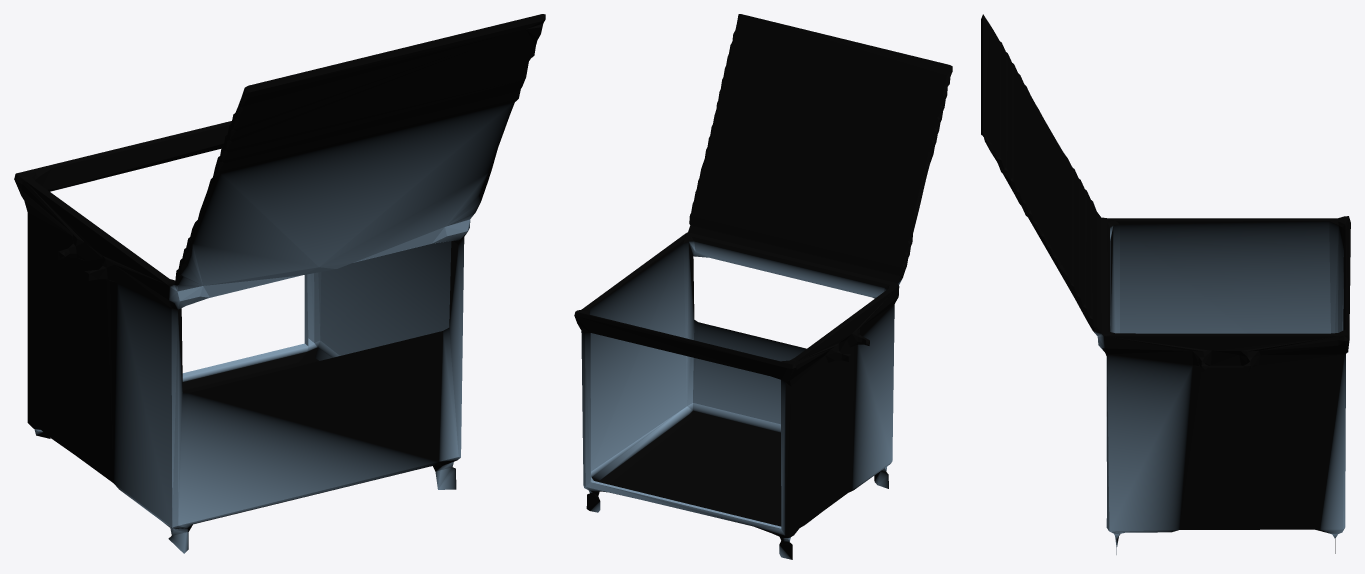
The model's file is Dumpsters(1).glb.
3 views of the same model, side by side, from view 1: azimuth 30°, elevation 25°; view 2: azimuth 150°, elevation 25°; view 3: azimuth 270°, elevation 25° (orthographic). The views are drawn at different scales.
Parts seen in each view (by area): view 1: Root; view 2: Root; view 3: Root.
Boxes of the visible parts, x1,y1,x2,y2 form: Root: (14, 14, 545, 553); Root: (574, 14, 952, 559); Root: (981, 14, 1350, 554).
Size of the model in its own units: 1.47 by 2.19 by 1.7.
